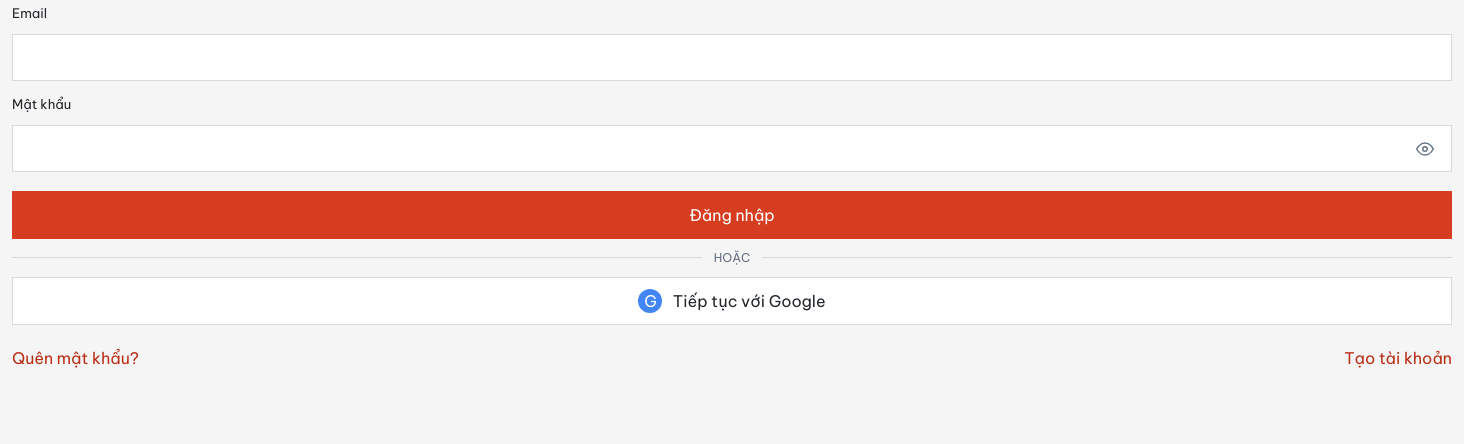
Scenario: account forms › labels login fields, clears a rejected password, and focuses the generic error
In the field labelled "Email": (732, 58) [12,34,1452,81], type "Buyer@Example.com"
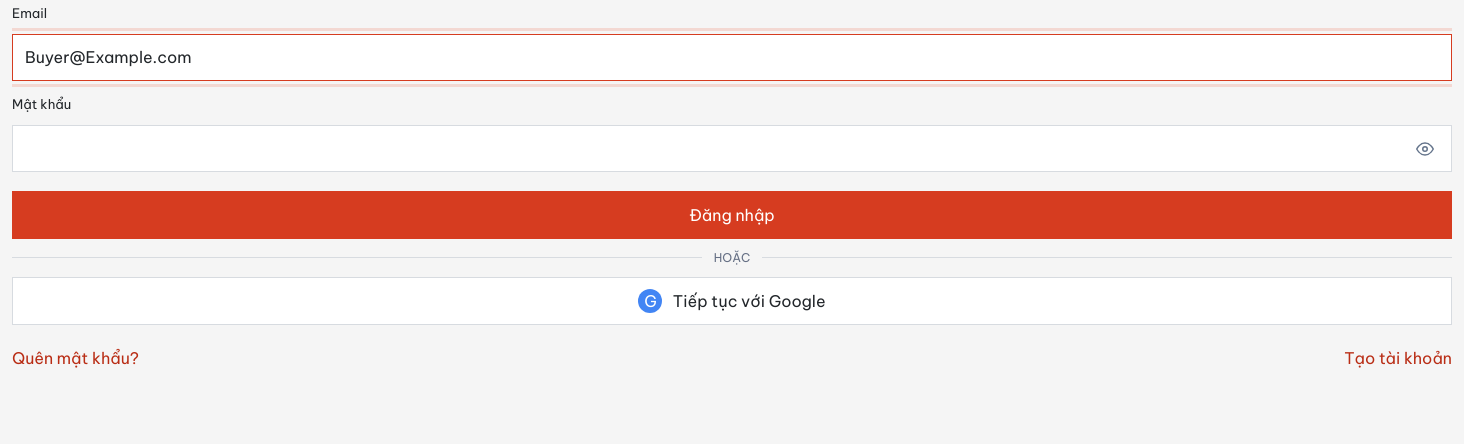
In the password field labelled "Mật khẩu": (732, 149) [12,125,1452,172], type "wrong password"
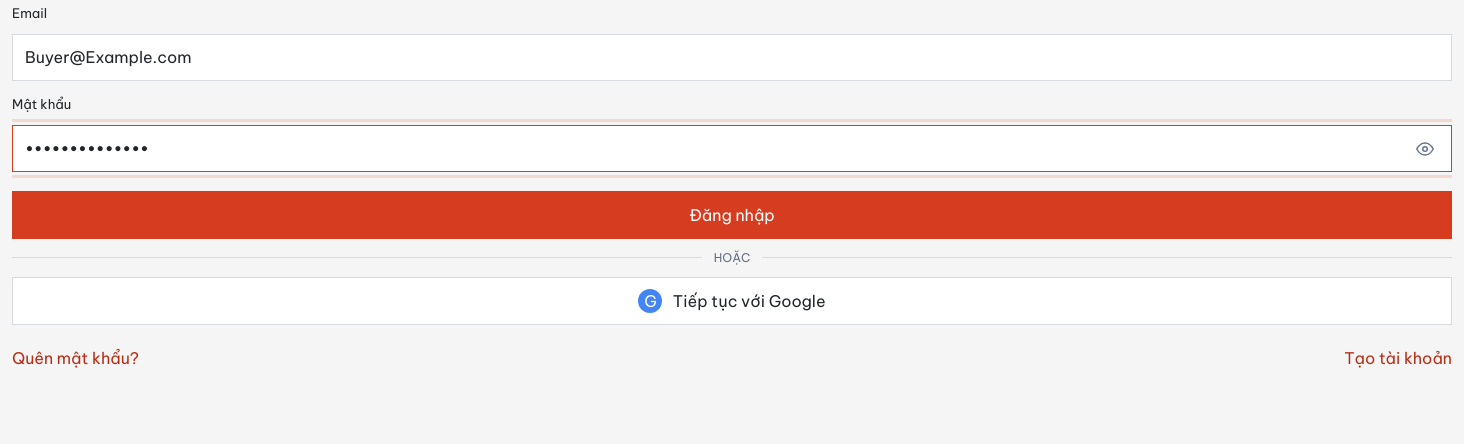
Click the button "Đăng nhập": (732, 214) [12,190,1452,238]
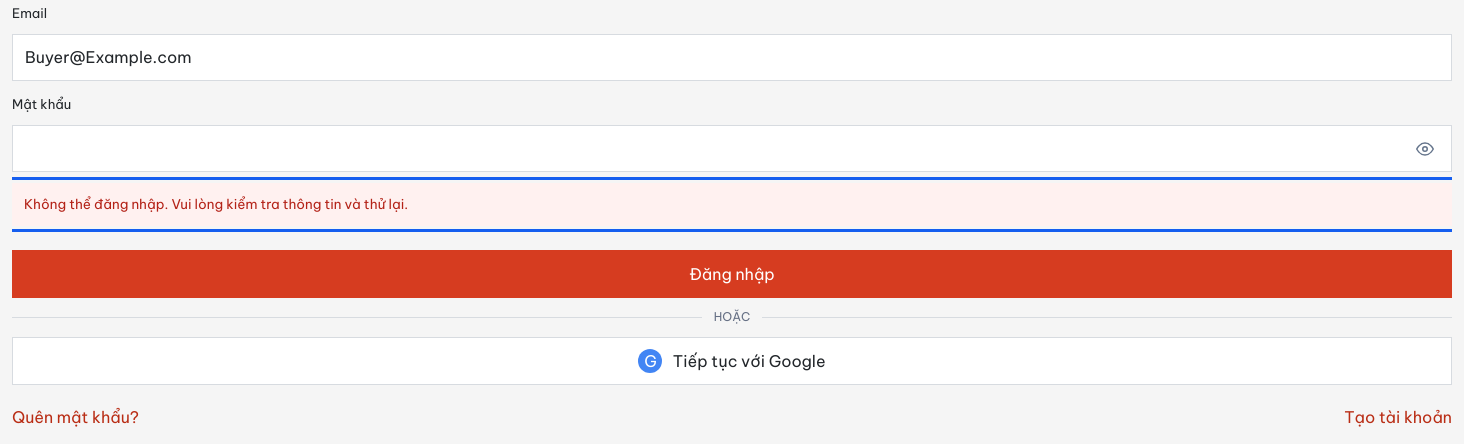
Expected: the message shows "Không thể đăng nhập", [24,196,408,212]
Expected: the password field labelled "Mật khẩu" is empty, [12,125,1452,172]
